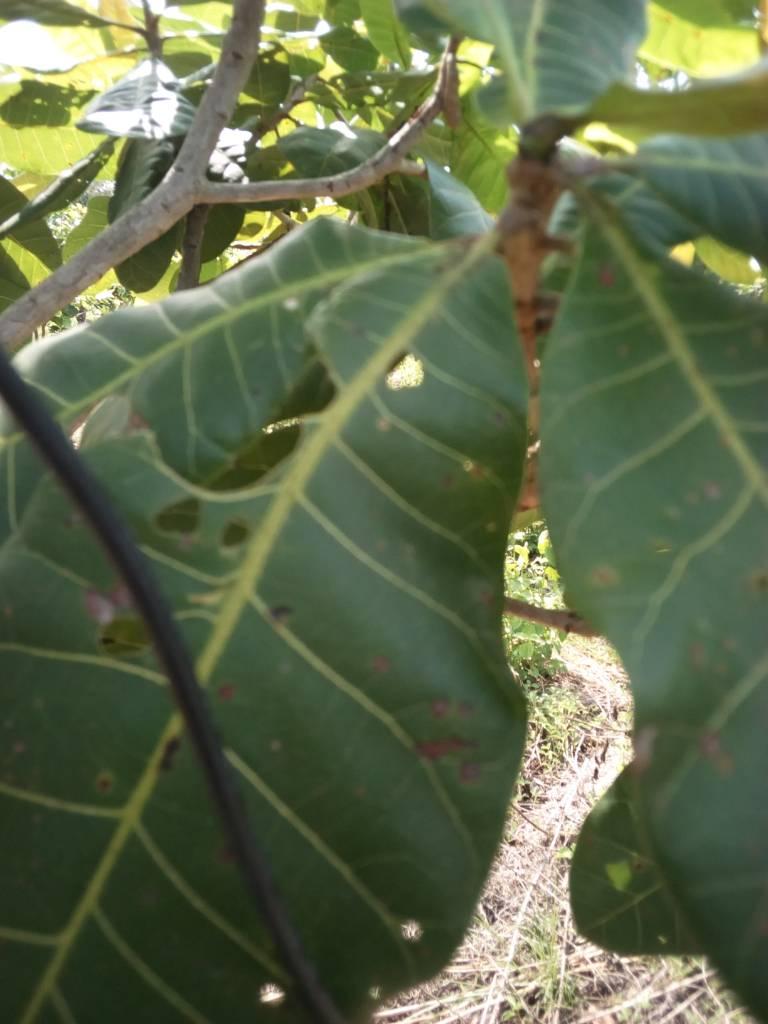Anoplonemis curvipes: (1, 216, 561, 1024)
